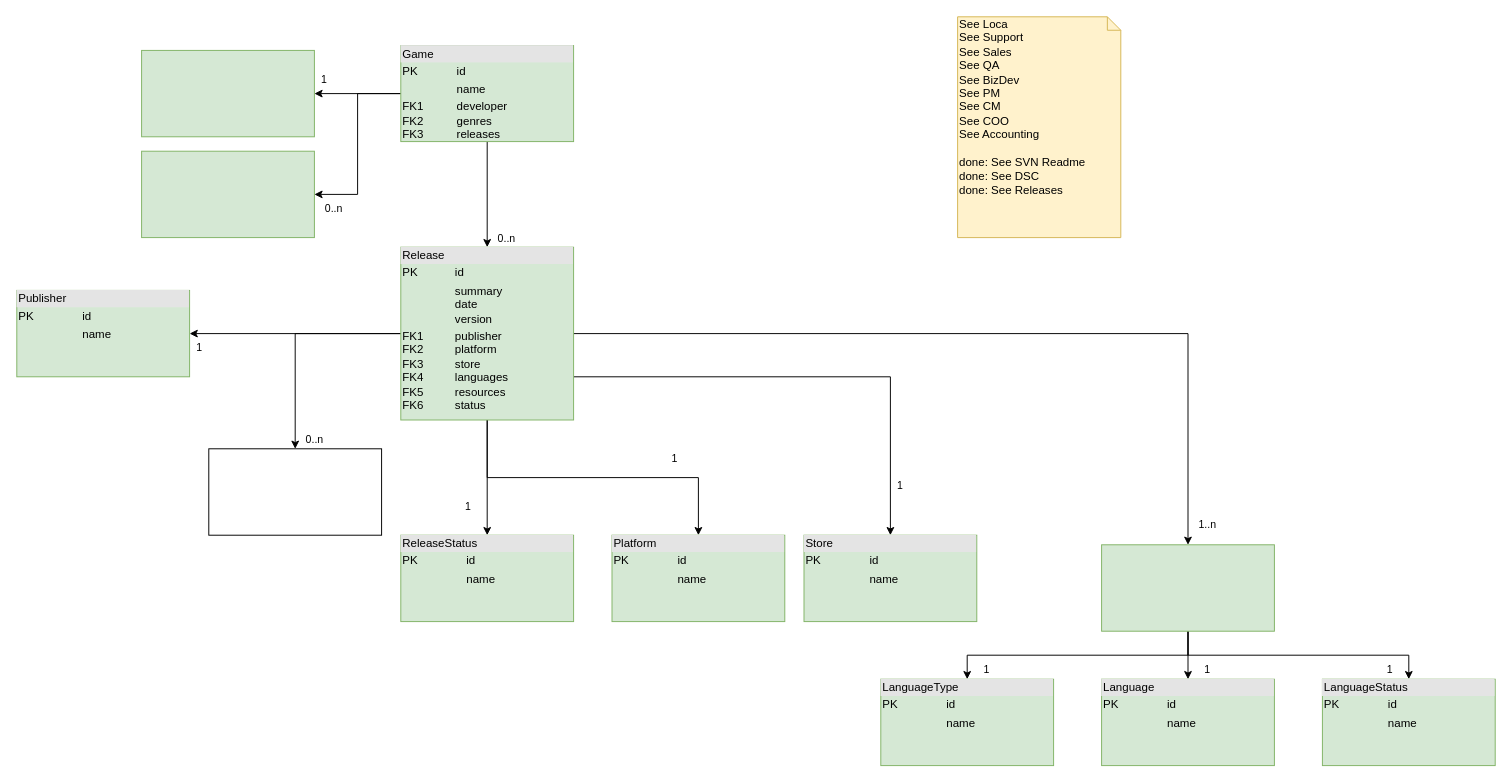
This 1512x782 diagram has some shape labels left out. Here are the shapes that lost their labels. From the top down, the centre of each, then its label:
At (227,93): "Developer PK id name".
At (227,194): "Genre PK id FK1 name".
At (295,491): "Resource PK id name".
At (1187,587): "ImplementedLanguage PK id FK1 language FK2 FK3 languageType languageStatus".
